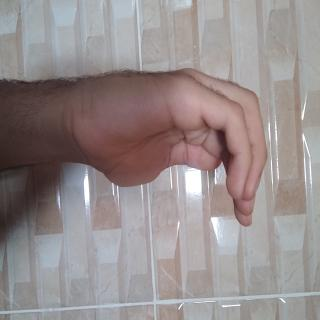HAA: (43, 65, 175, 320)
